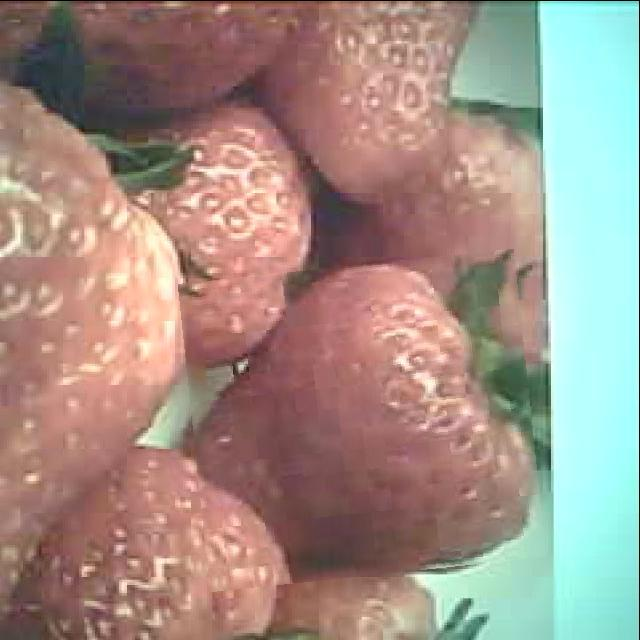strawberry: (186, 257, 538, 583)
